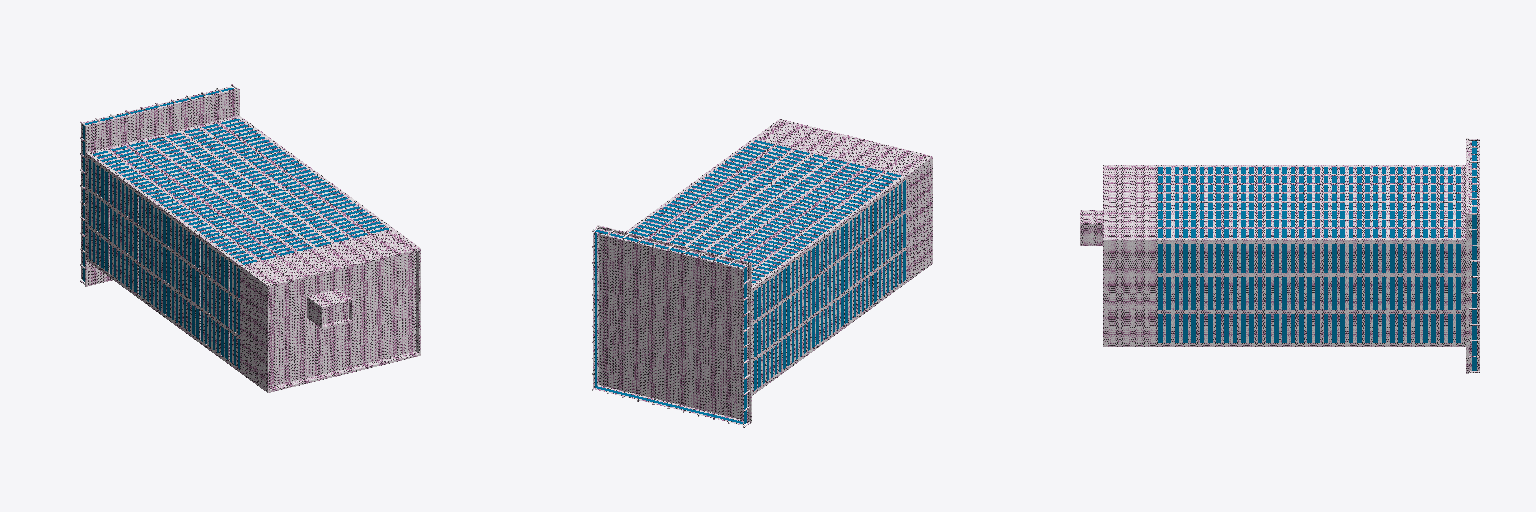
3 views of the same model, side by side, from view 1: azimuth 30°, elevation 25°; view 2: azimuth 150°, elevation 25°; view 3: azimuth 270°, elevation 25° (orthographic).
Visible parts, largest first — view 1: Wall_08, Glass_01, Wall_03, Wall_04, Wall_02, Wall_07; view 2: Wall_08, Glass_01, Wall_03, Wall_04, Wall_02, Wall_05, Wall_07; view 3: Glass_01, Wall_03, Wall_04, Wall_02, Wall_07, Wall_08, Wall_01, Wall_06, Wall_05.
Boxes of the visible parts, x1,y1,x2,y2 form: Wall_08: [86, 89, 420, 392]; Glass_01: [83, 88, 388, 368]; Wall_03: [91, 120, 390, 366]; Wall_04: [240, 228, 416, 389]; Wall_02: [89, 118, 392, 371]; Wall_07: [264, 246, 420, 392]; Wall_08: [597, 121, 929, 423]; Glass_01: [595, 140, 905, 423]; Wall_03: [597, 141, 902, 421]; Wall_04: [753, 122, 928, 282]; Wall_02: [626, 139, 905, 393]; Wall_05: [593, 232, 743, 425]; Wall_07: [777, 119, 932, 265]; Glass_01: [1158, 141, 1476, 370]; Wall_03: [1163, 141, 1471, 370]; Wall_04: [1111, 165, 1157, 346]; Wall_02: [1158, 165, 1460, 346]; Wall_07: [1103, 165, 1109, 346]; Wall_08: [1080, 165, 1465, 346]; Wall_01: [1461, 165, 1464, 346]; Wall_06: [1466, 138, 1468, 373]; Wall_05: [1477, 141, 1479, 370].
Bounding box in the file's own units: 1286 × 1286 × 2897.
3 materials, 1 textured.